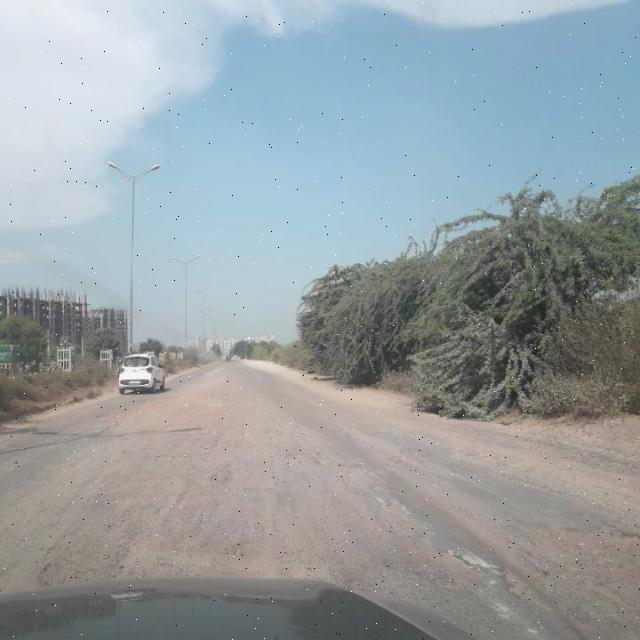D40: (1, 443, 489, 591), (492, 479, 640, 639), (79, 401, 157, 437)
